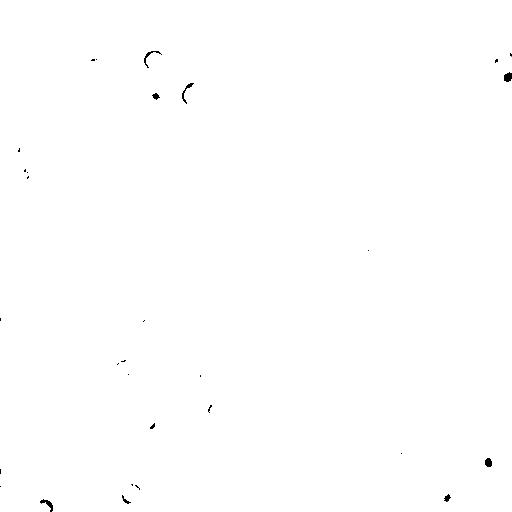micro-algae: (444, 361, 511, 445), (432, 47, 498, 114), (378, 145, 425, 191), (146, 76, 192, 116), (6, 319, 41, 361), (323, 334, 359, 370), (431, 479, 470, 511), (469, 443, 501, 476), (27, 51, 54, 89), (254, 161, 284, 194), (189, 34, 217, 65), (250, 71, 279, 99), (432, 1, 471, 21), (489, 58, 511, 92), (349, 343, 375, 370), (55, 296, 81, 322), (237, 299, 263, 325), (389, 433, 417, 457), (250, 347, 278, 371), (262, 319, 291, 342), (182, 81, 208, 105), (147, 21, 171, 46), (87, 209, 112, 233), (167, 0, 201, 17), (274, 280, 296, 306), (209, 395, 228, 423), (120, 483, 144, 505), (137, 409, 159, 433), (361, 236, 389, 253), (145, 48, 163, 73), (81, 59, 105, 77), (185, 494, 209, 512), (500, 29, 511, 67), (115, 358, 137, 377), (192, 126, 212, 146), (168, 65, 189, 83), (89, 0, 119, 12), (5, 136, 23, 156), (15, 167, 33, 185), (133, 305, 150, 324), (390, 499, 416, 511), (104, 411, 121, 429), (200, 363, 215, 381), (38, 498, 55, 511), (1, 468, 12, 485)
